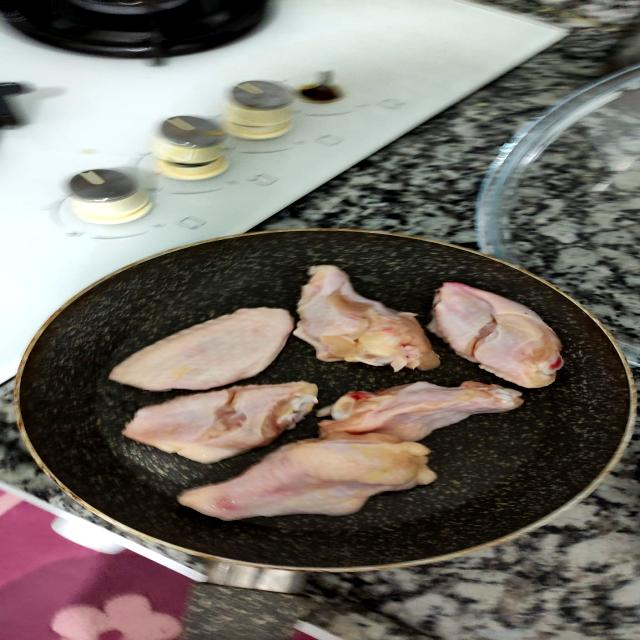chicken: (176, 424, 446, 527), (120, 369, 342, 464), (283, 254, 453, 378), (104, 298, 309, 399), (427, 275, 585, 396), (320, 375, 540, 445)
